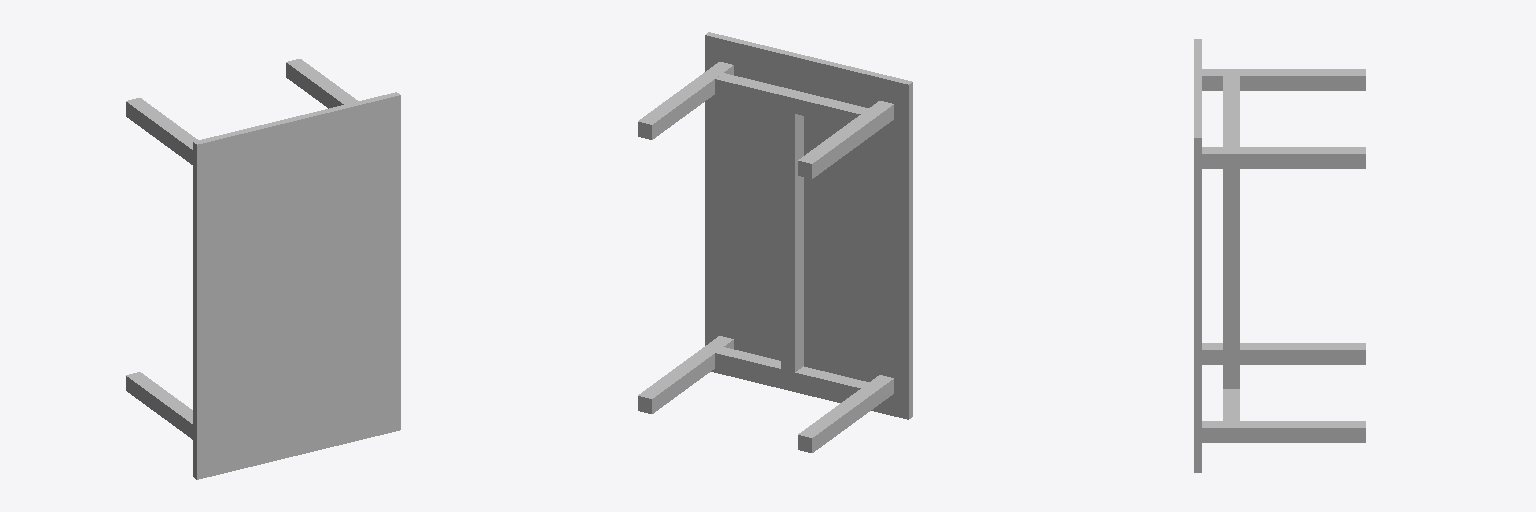
Rendered from Table.obj.
3 renders of one model, left to right at view 1: azimuth 30°, elevation 25°; view 2: azimuth 150°, elevation 25°; view 3: azimuth 270°, elevation 25°, orthographic.
Parts seen in each view (by area): view 1: Platte, Bein_2, Bein, Bein_3; view 2: Platte, Stütze_2, Stütze, Stütze_1, Bein, Bein_2, Bein_3, Bein_1; view 3: Stütze_2, Bein_3, Bein_1, Platte, Bein_2, Bein, Stütze, Stütze_1.
Part boxes in pixels (x1,y1,x2,y2): Platte: (193, 92, 400, 479); Bein_2: (126, 98, 197, 164); Bein: (126, 372, 192, 439); Bein_3: (286, 59, 357, 108); Platte: (705, 32, 912, 419); Stütze_2: (781, 104, 803, 379); Stütze: (715, 73, 868, 125); Stütze_1: (715, 347, 868, 399); Bein: (798, 375, 893, 452); Bein_2: (798, 101, 893, 178); Bein_3: (638, 62, 733, 139); Bein_1: (638, 336, 733, 413); Stütze_2: (1223, 169, 1239, 388); Bein_3: (1202, 147, 1365, 168); Bein_1: (1202, 421, 1365, 442); Platte: (1194, 39, 1201, 472); Bein_2: (1202, 69, 1365, 90); Bein: (1202, 343, 1365, 364); Stütze: (1223, 76, 1239, 146); Stütze_1: (1223, 389, 1239, 420).
Bounding box in the file's own units: 140 × 220 × 103.